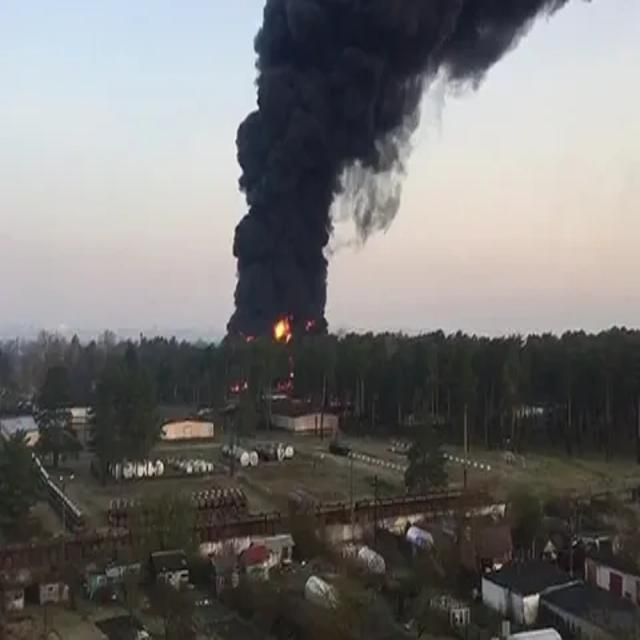Smoke: (227, 1, 419, 339)
